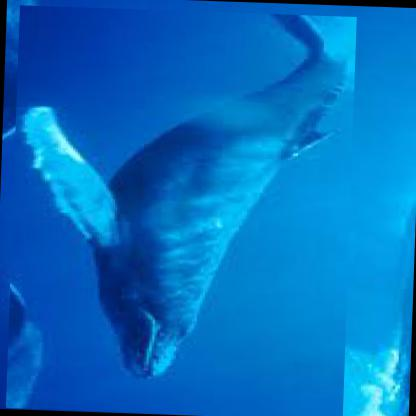sperm_whale: (5, 4, 358, 415)
